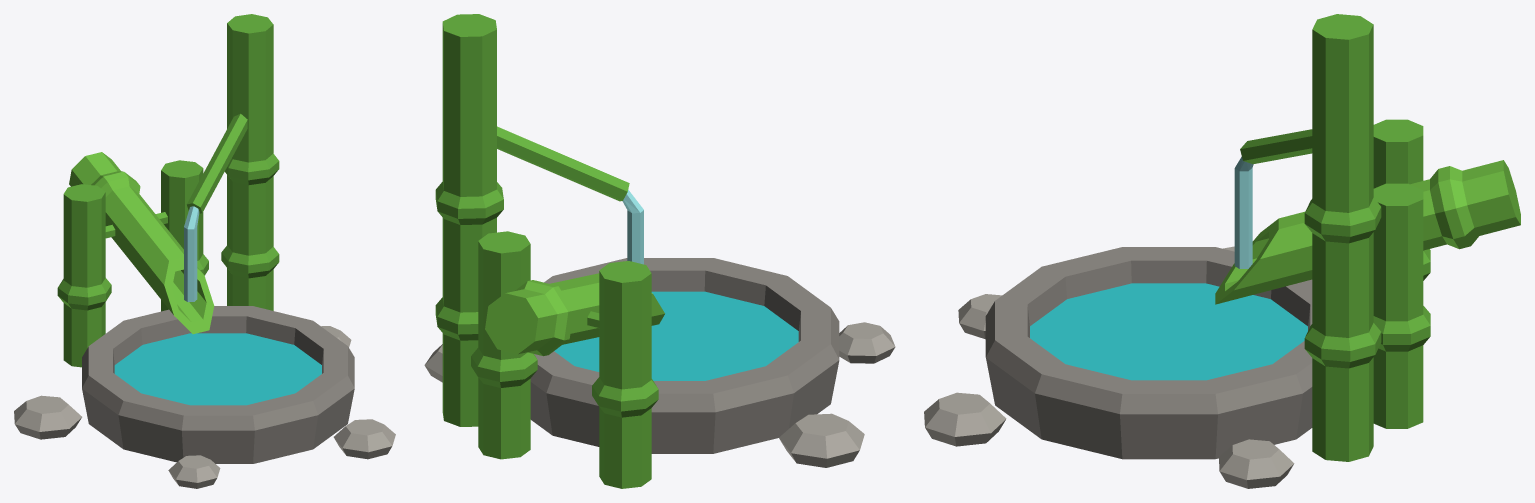
The model's file is shishi-odoshi.glb.
3 views of the same model, side by side, from view 1: azimuth 30°, elevation 25°; view 2: azimuth 150°, elevation 25°; view 3: azimuth 270°, elevation 25° (orthographic). The views are drawn at different scales.
Visible parts, largest first — view 1: Posts, Basin, Water, Rocker, Pebbles, Stream; view 2: Posts, Basin, Water, Rocker, Pebbles, Stream; view 3: Posts, Basin, Water, Rocker, Pebbles, Stream.
Part boxes in pixels (bbox=[...]): Posts: bbox=[57, 14, 279, 367]; Basin: bbox=[82, 306, 354, 463]; Water: bbox=[114, 333, 321, 405]; Rocker: bbox=[69, 152, 214, 334]; Pebbles: bbox=[14, 326, 395, 488]; Stream: bbox=[184, 206, 199, 302]; Posts: bbox=[435, 14, 658, 488]; Basin: bbox=[530, 258, 839, 453]; Water: bbox=[554, 291, 798, 380]; Rocker: bbox=[485, 273, 664, 356]; Pebbles: bbox=[424, 322, 895, 467]; Stream: bbox=[622, 190, 643, 264]; Posts: bbox=[1240, 14, 1430, 461]; Basin: bbox=[985, 247, 1312, 459]; Water: bbox=[1030, 283, 1307, 380]; Rocker: bbox=[1215, 160, 1520, 304]; Pebbles: bbox=[924, 246, 1294, 488]; Stream: bbox=[1234, 156, 1253, 268].
Size of the model in its own units: 4.4 by 3.88 by 4.97.
